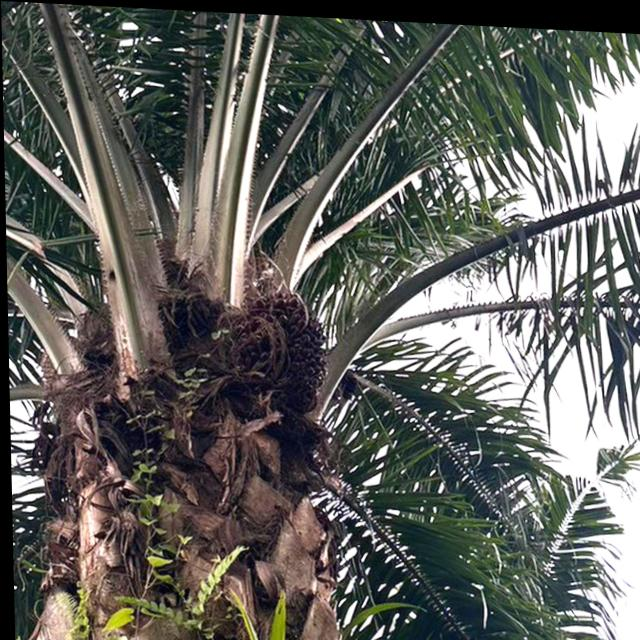ripe: (224, 276, 329, 406)
